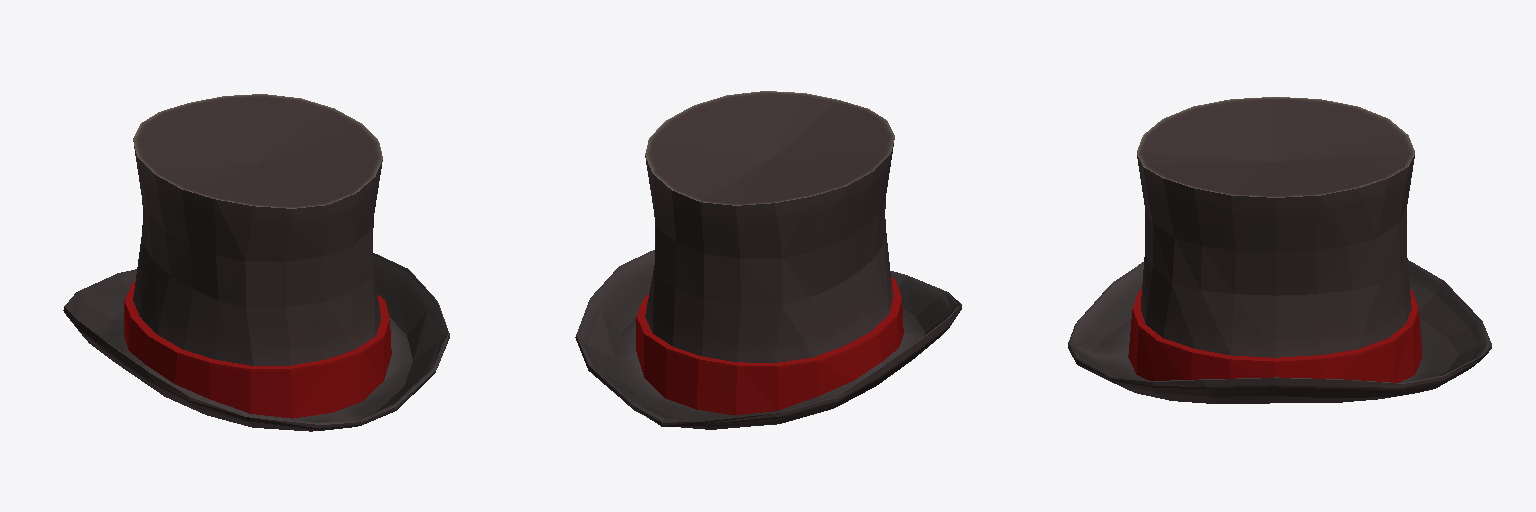
The picture shows the model from 3 angles: view 1: azimuth 30°, elevation 25°; view 2: azimuth 150°, elevation 25°; view 3: azimuth 270°, elevation 25°; orthographic projection.
Visible parts, largest first — view 1: TopHat3:pCylinder3; view 2: TopHat3:pCylinder3; view 3: TopHat3:pCylinder3.
Part boxes in pixels (left/top/right/bottom): TopHat3:pCylinder3: left=63, top=94, right=449, bottom=431; TopHat3:pCylinder3: left=575, top=91, right=961, bottom=429; TopHat3:pCylinder3: left=1068, top=97, right=1491, bottom=403.
Bounding box in the file's own units: 6.79 × 4.64 × 8.22.
Materials: 1 (1 with a texture image).